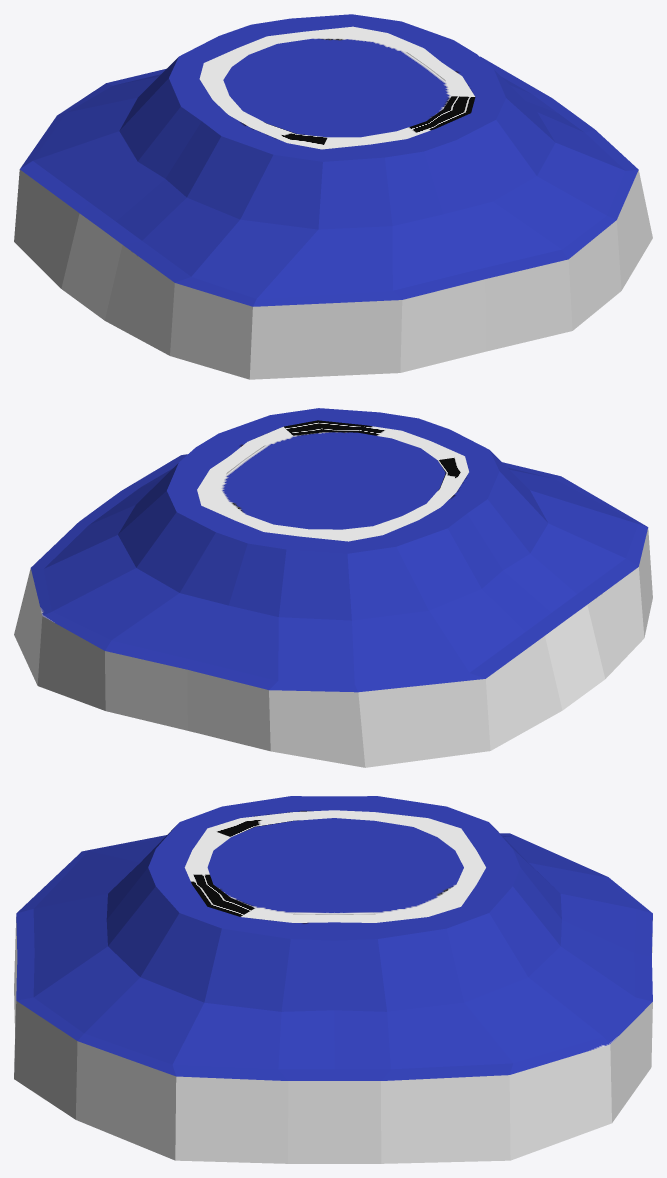
The model's file is hopo_four.fbx.
3 renders of one model, top to bottom at view 1: azimuth 30°, elevation 25°; view 2: azimuth 150°, elevation 25°; view 3: azimuth 270°, elevation 25°, orthographic. The views are drawn at different scales.
Parts seen in each view (by area): view 1: pasted__polySurface1; view 2: pasted__polySurface1; view 3: pasted__polySurface1.
Boxes of the visible parts, left/top/right/bottom form: pasted__polySurface1: left=14, top=14, right=652, bottom=379; pasted__polySurface1: left=14, top=408, right=652, bottom=767; pasted__polySurface1: left=14, top=796, right=652, bottom=1163.
Bounding box in the file's own units: 0.9786 × 0.2885 × 1.
1 material, 1 textured.
